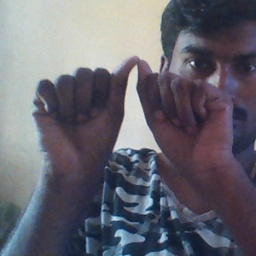A: (49, 52, 219, 166)
